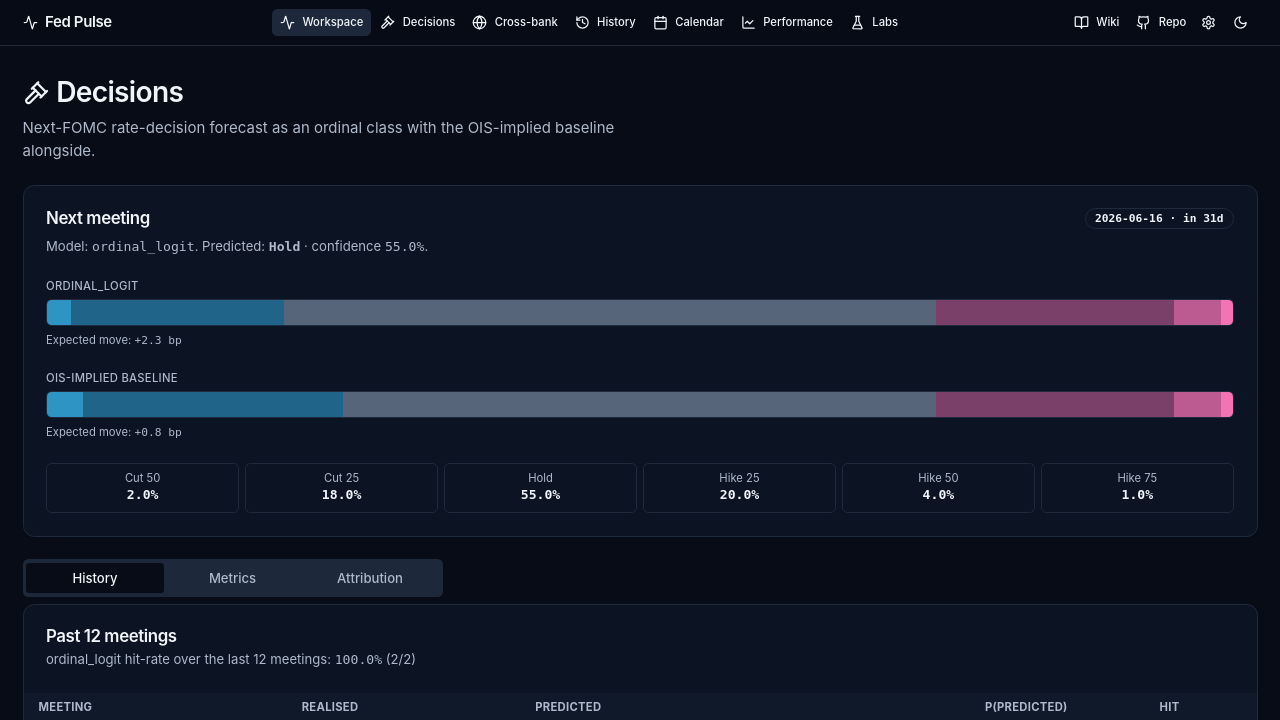
Test: DecisionsPage › renders the feature-attribution table
The width and height of the screenshot is (1280, 720).
Expected: the heading "Next meeting" is shown, [46, 210, 150, 227]
# Switch to the attribution tab.
Click the tab "Attribution": {"x": 370, "y": 578} [301, 563, 439, 593]
(page scrolled)
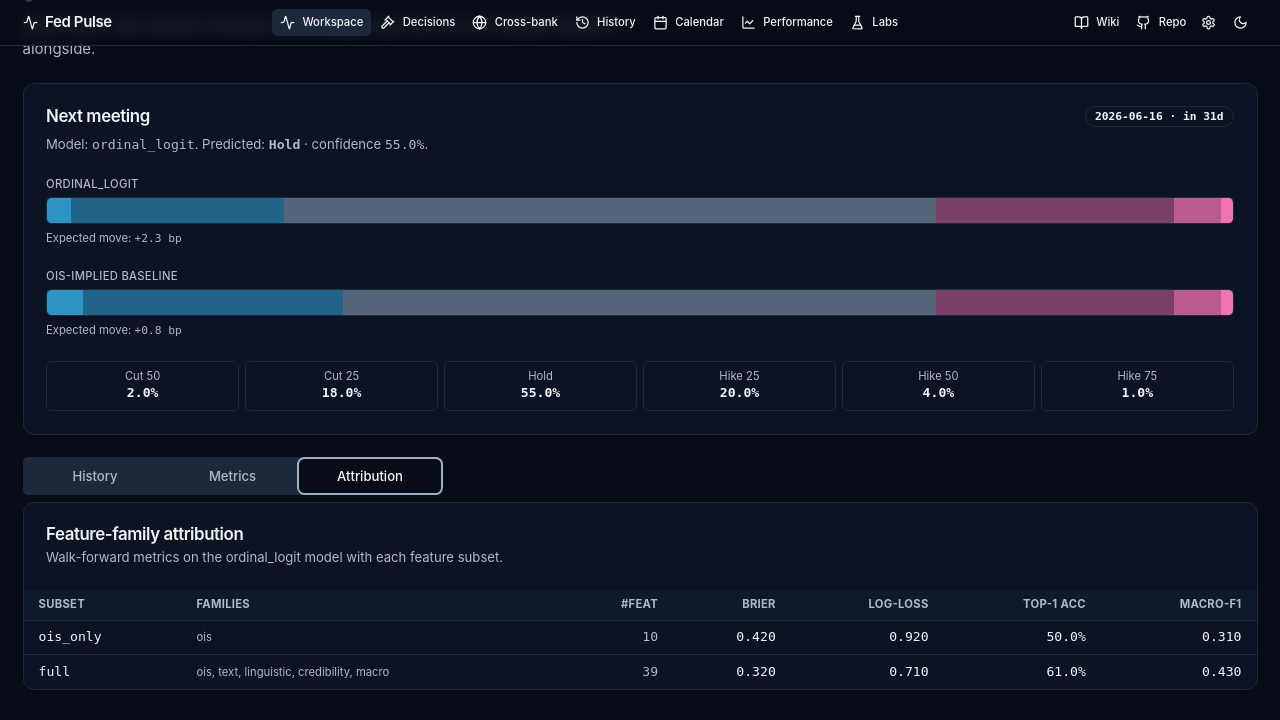
Now the text "ois_only" is shown, box [24, 620, 181, 655]
Now the text "full" is shown, box [24, 655, 181, 689]
Now the text "ois, text, linguistic, credibility, macro" is shown, box [181, 655, 559, 689]
